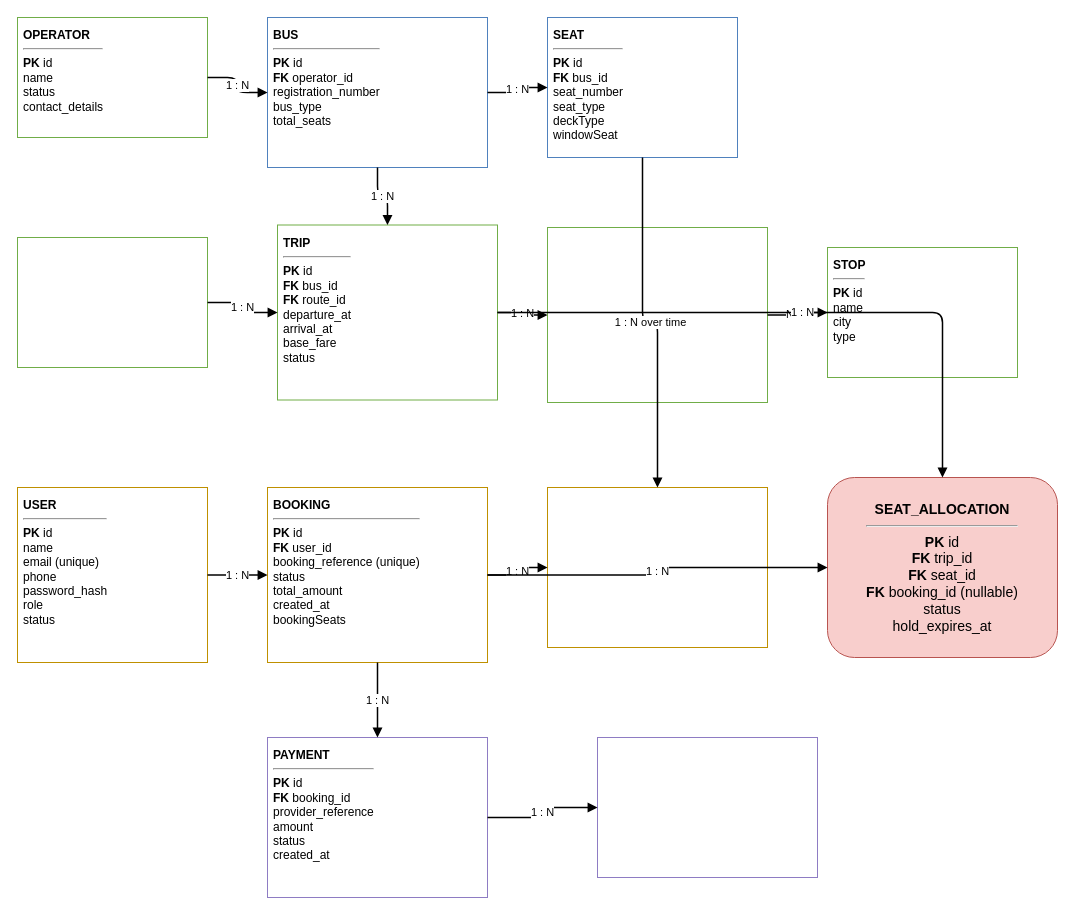
The diagram is 1075 pixels wide and 915 high, and some of its shapes have lost their labels. Each missing label, with the box of its shape:
BOOKING_SEAT PK id FK booking_id FK trip_id FK seat_id fare: (546, 486, 768, 648)
REFUND PK id FK payment_id amount status created_at: (596, 736, 818, 878)
ROUTE PK id name source destination: (16, 236, 208, 368)
TRIP_STOP PK id FK trip_id FK stop_id stop_sequence arrival_at departure_at: (546, 226, 768, 402)
